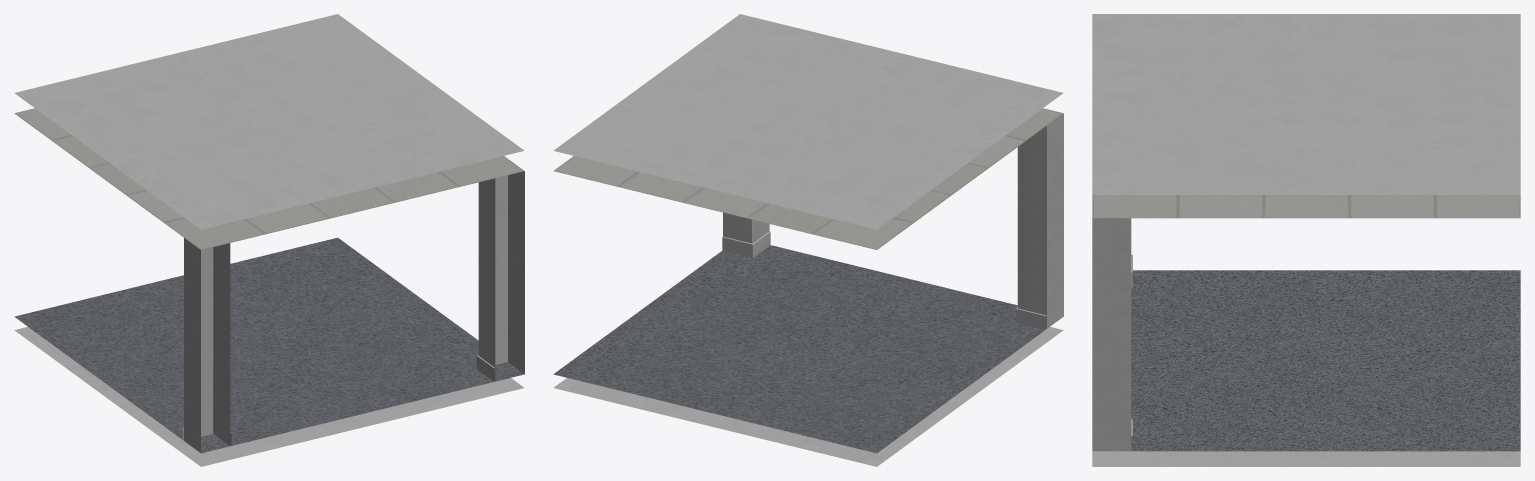
File: SM_HallwayMesh_01_Mid_Connected_Side.fbx
3 renders of one model, left to right at view 1: azimuth 30°, elevation 25°; view 2: azimuth 150°, elevation 25°; view 3: azimuth 270°, elevation 25°, orthographic. The views are drawn at different scales.
Visible parts, largest first — view 1: SM_HallwayMesh_01_Mid_Connected_Side_LOD0; view 2: SM_HallwayMesh_01_Mid_Connected_Side_LOD0; view 3: SM_HallwayMesh_01_Mid_Connected_Side_LOD0.
Boxes of the visible parts, x1,y1,x2,y2 form: SM_HallwayMesh_01_Mid_Connected_Side_LOD0: (14, 14, 524, 466); SM_HallwayMesh_01_Mid_Connected_Side_LOD0: (553, 14, 1063, 466); SM_HallwayMesh_01_Mid_Connected_Side_LOD0: (1092, 14, 1520, 466).
Bounding box in the file's own units: 500 × 500 × 350.
5 materials, 5 textured.
